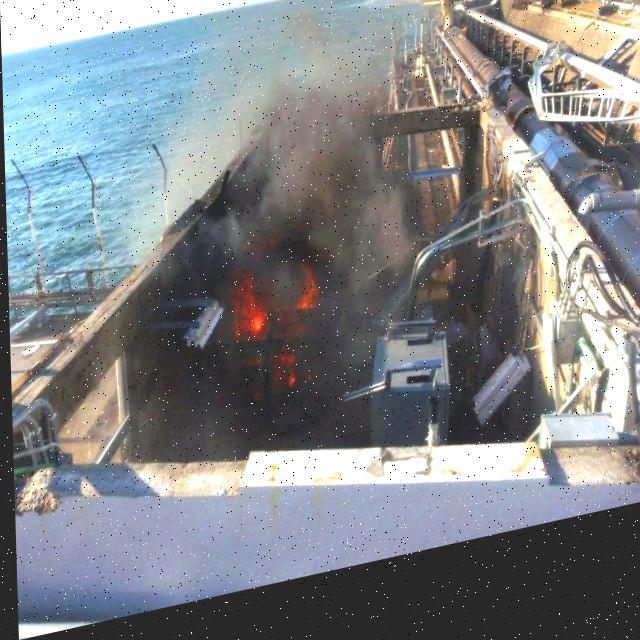Fire: (225, 230, 323, 406)
